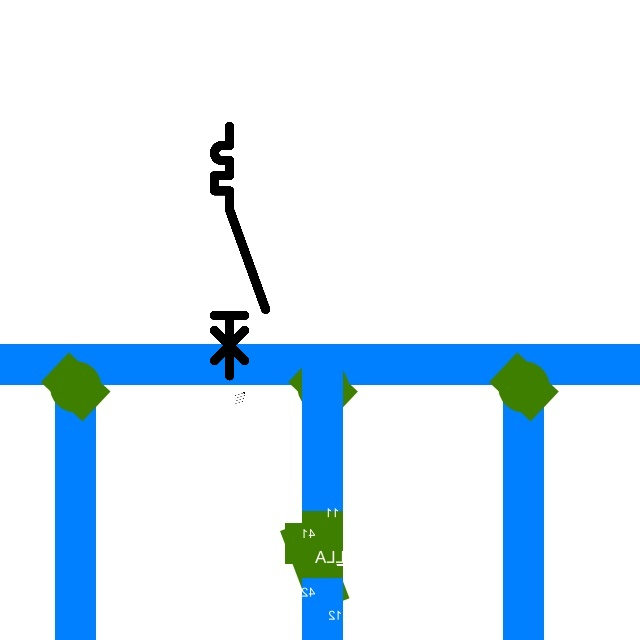interruptor_termomagnetico: (208, 120, 272, 383)
